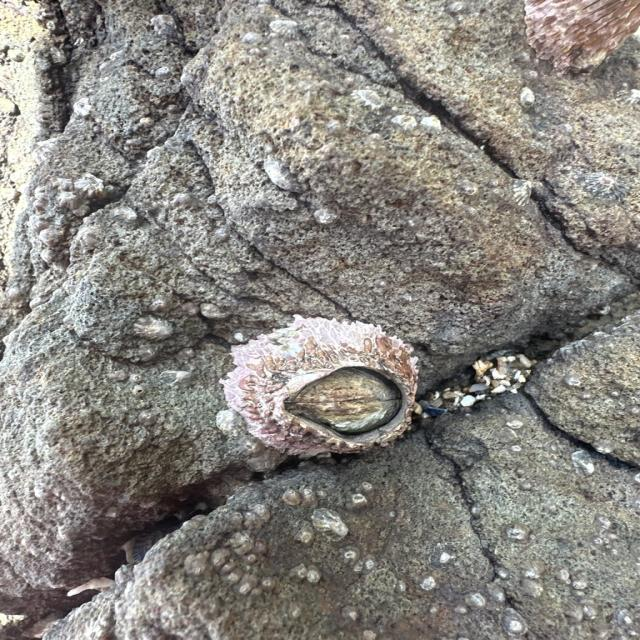barnacles: (224, 310, 424, 472)
